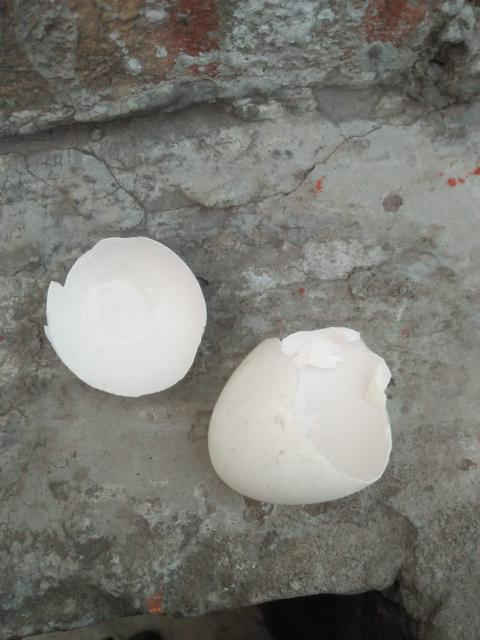Roto: (206, 325, 393, 506), (43, 234, 208, 398)
